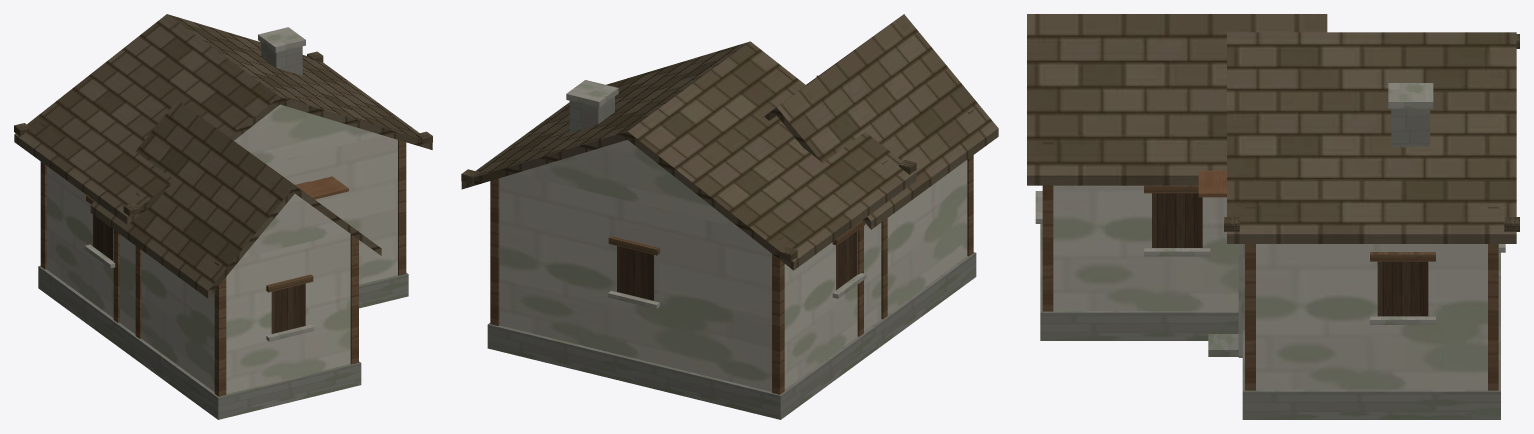
File: ae_forest_stone_medium_court_lod0.glb
3 renders of one model, left to right at view 1: azimuth 30°, elevation 25°; view 2: azimuth 150°, elevation 25°; view 3: azimuth 270°, elevation 25°, orthographic. The views are drawn at different scales.
Visible parts, largest first — view 1: ae_forest_stone_medium_court_lod0; view 2: ae_forest_stone_medium_court_lod0; view 3: ae_forest_stone_medium_court_lod0.
Boxes of the visible parts, bbox=[...] form: ae_forest_stone_medium_court_lod0: bbox=[14, 14, 432, 419]; ae_forest_stone_medium_court_lod0: bbox=[461, 14, 998, 419]; ae_forest_stone_medium_court_lod0: bbox=[1027, 14, 1519, 419].
Bounding box in the file's own units: 5.8 × 4.3 × 6.33.
Materials: 1 (1 with a texture image).
